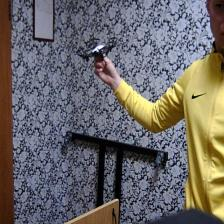drone: (72, 33, 129, 66)
